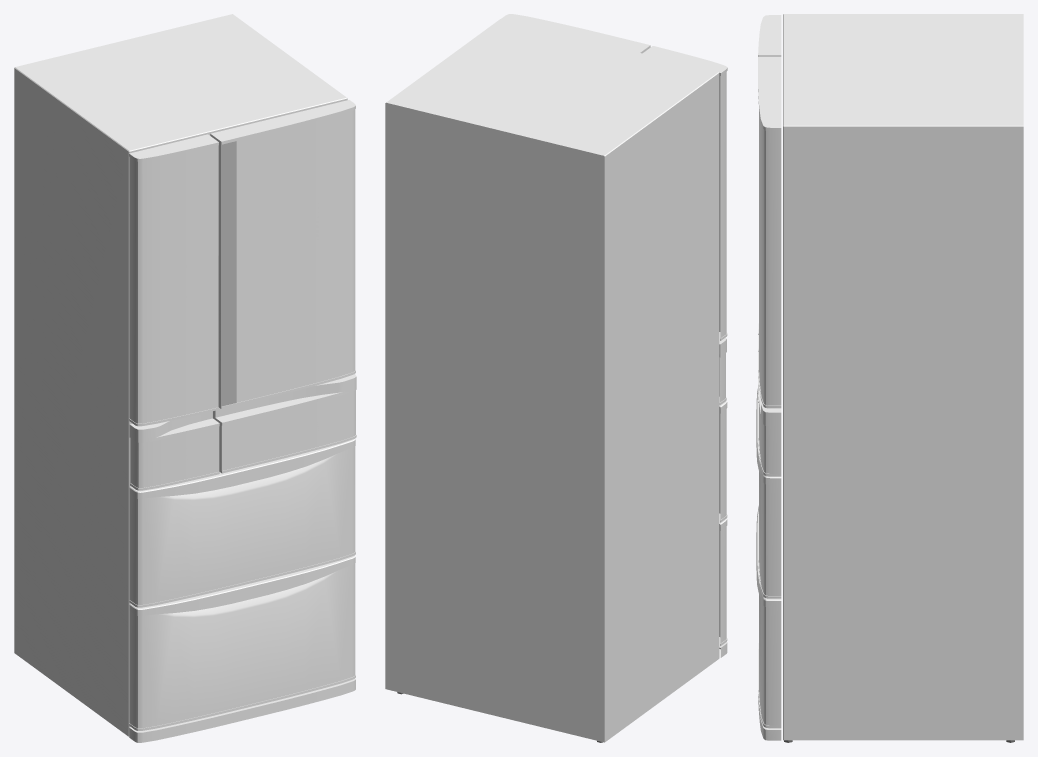
File: SM_Refrigerator_1.fbx
3 renders of one model, left to right at view 1: azimuth 30°, elevation 25°; view 2: azimuth 150°, elevation 25°; view 3: azimuth 270°, elevation 25°, orthographic. The views are drawn at different scales.
Visible parts, largest first — view 1: GDLM1167_GDLM781_mLayer126_61.013, GDLM1167_GDLM781_mLayer126_61.002, GDLM1167_GDLM781_mLayer126_61.007, GDLM1167_GDLM781_mLayer126_61.008, GDLM1167_GDLM781_mLayer126_61.009, GDLM1167_GDLM781_mLayer126_61.010, GDLM1167_GDLM781_mLayer126_61.011, GDLM1171_GDLM789_mLayer138, GDLM1167_GDLM781_mLayer126_61.012; view 2: GDLM1167_GDLM781_mLayer126_61.013, GDLM1167_GDLM781_mLayer126_61.009, GDLM1167_GDLM781_mLayer126_61.002, GDLM1167_GDLM781_mLayer126_61.007, GDLM1167_GDLM781_mLayer126_61.008; view 3: GDLM1167_GDLM781_mLayer126_61.013, GDLM1167_GDLM781_mLayer126_61.002, GDLM1167_GDLM781_mLayer126_61.007, GDLM1167_GDLM781_mLayer126_61.008, GDLM1167_GDLM781_mLayer126_61.010, GDLM1167_GDLM781_mLayer126_61.009.
Part boxes in pixels (x1,y1,x2,y2): GDLM1167_GDLM781_mLayer126_61.013: (14, 14, 347, 736); GDLM1167_GDLM781_mLayer126_61.002: (210, 100, 355, 408); GDLM1167_GDLM781_mLayer126_61.007: (129, 555, 355, 730); GDLM1167_GDLM781_mLayer126_61.008: (129, 439, 355, 607); GDLM1167_GDLM781_mLayer126_61.009: (129, 134, 218, 426); GDLM1167_GDLM781_mLayer126_61.010: (213, 374, 356, 473); GDLM1167_GDLM781_mLayer126_61.011: (129, 411, 219, 490); GDLM1171_GDLM789_mLayer138: (221, 141, 236, 406); GDLM1167_GDLM781_mLayer126_61.012: (129, 678, 355, 742); GDLM1167_GDLM781_mLayer126_61.013: (385, 19, 719, 742); GDLM1167_GDLM781_mLayer126_61.009: (642, 46, 727, 340); GDLM1167_GDLM781_mLayer126_61.002: (501, 14, 650, 53); GDLM1167_GDLM781_mLayer126_61.007: (719, 518, 727, 645); GDLM1167_GDLM781_mLayer126_61.008: (719, 401, 727, 522); GDLM1167_GDLM781_mLayer126_61.013: (783, 14, 1023, 740); GDLM1167_GDLM781_mLayer126_61.002: (758, 56, 781, 408); GDLM1167_GDLM781_mLayer126_61.007: (756, 506, 781, 728); GDLM1167_GDLM781_mLayer126_61.008: (756, 388, 781, 598); GDLM1167_GDLM781_mLayer126_61.010: (758, 352, 781, 476); GDLM1167_GDLM781_mLayer126_61.009: (758, 15, 781, 334).
Bounding box in the file's own units: 0.6912 × 1.77 × 0.6892.
4 materials, 2 textured.
